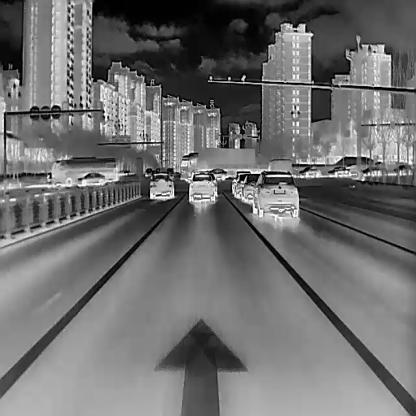car: (179, 146, 255, 184), (250, 167, 300, 217), (50, 155, 117, 189), (188, 173, 216, 202), (149, 171, 174, 200), (240, 171, 261, 205), (76, 172, 107, 188), (268, 158, 292, 175), (299, 165, 321, 179), (327, 165, 349, 177), (208, 168, 228, 181), (391, 163, 411, 175), (361, 166, 382, 176), (144, 167, 152, 177)
